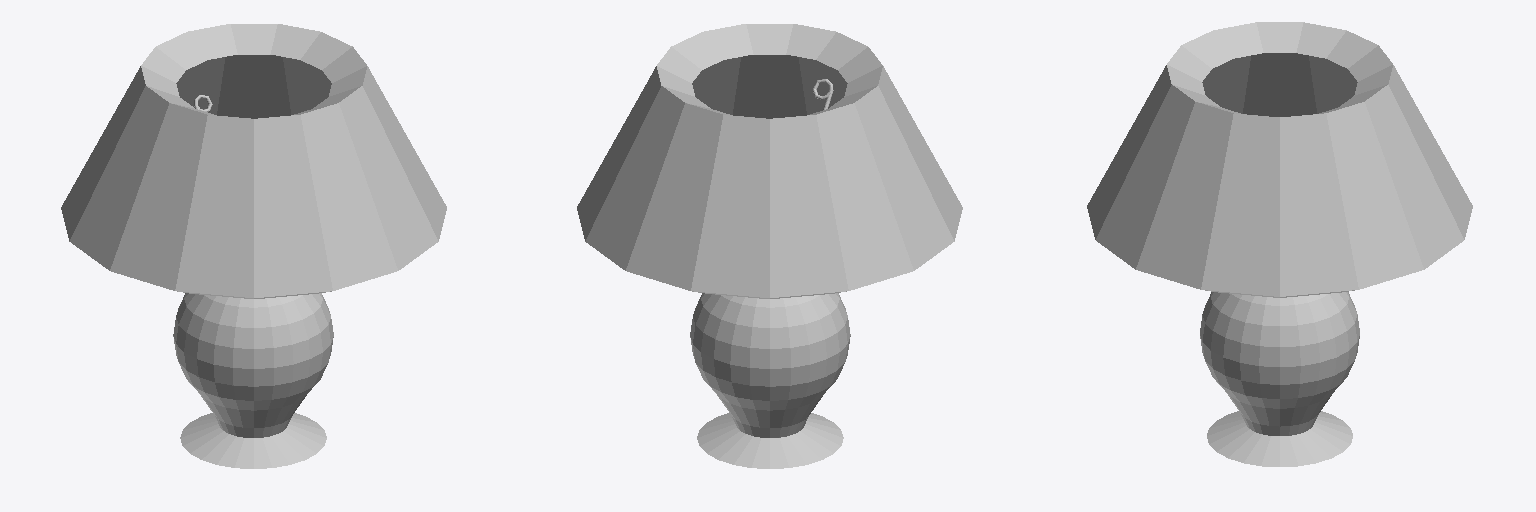
Rendered from lampara.obj.
3 views of the same model, side by side, from view 1: azimuth 30°, elevation 25°; view 2: azimuth 150°, elevation 25°; view 3: azimuth 270°, elevation 25° (orthographic).
Parts seen in each view (by area): view 1: Lamp_Head, Lamp_Body; view 2: Lamp_Head, Lamp_Body; view 3: Lamp_Head, Lamp_Body.
Part boxes in pixels (bbox=[...]): Lamp_Head: bbox=[61, 24, 446, 298]; Lamp_Body: bbox=[173, 293, 333, 468]; Lamp_Head: bbox=[577, 24, 962, 298]; Lamp_Body: bbox=[690, 293, 850, 468]; Lamp_Head: bbox=[1087, 22, 1472, 297]; Lamp_Body: bbox=[1200, 292, 1359, 466].
Size of the model in its own units: 4.78 by 5.1 by 4.81.